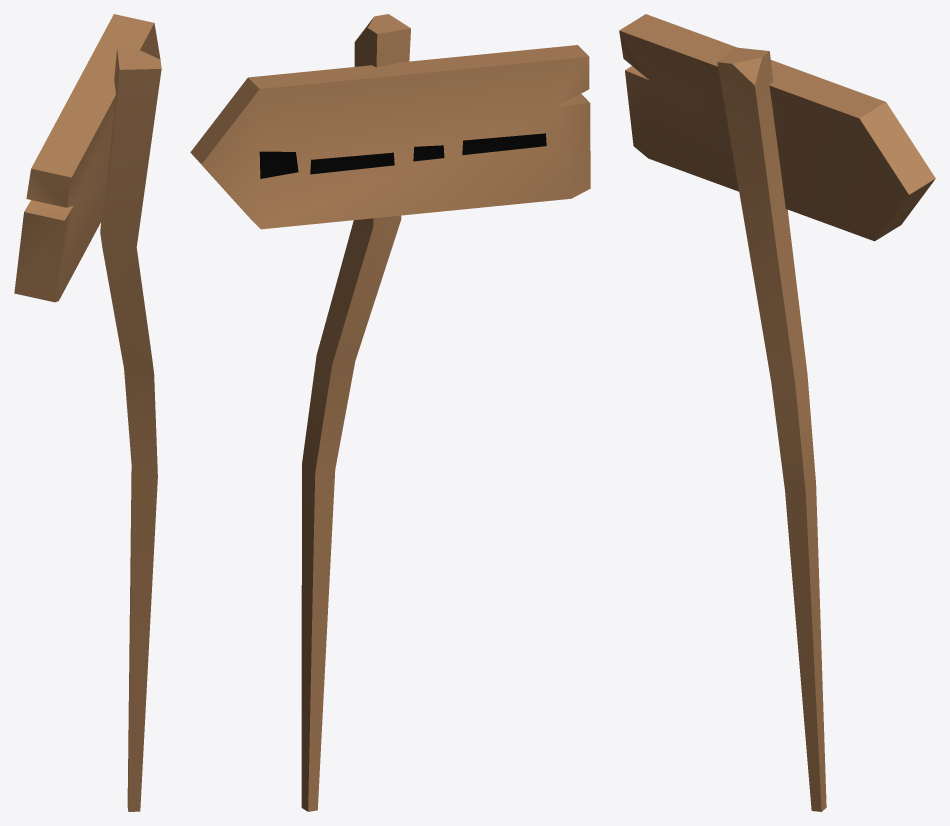
Rendered from mdl_signB.fbx.
The picture shows the model from 3 angles, left to right: view 1: azimuth 30°, elevation 25°; view 2: azimuth 150°, elevation 25°; view 3: azimuth 270°, elevation 25°; orthographic projection. The views are drawn at different scales.
Visible parts, largest first — view 1: mdl_signB; view 2: mdl_signB; view 3: mdl_signB.
Part boxes in pixels (left/top/right/bottom): mdl_signB: left=14, top=14, right=161, bottom=811; mdl_signB: left=190, top=14, right=590, bottom=811; mdl_signB: left=619, top=14, right=935, bottom=811.
Bounding box in the file's own units: 1.92 × 5.19 × 2.01.
